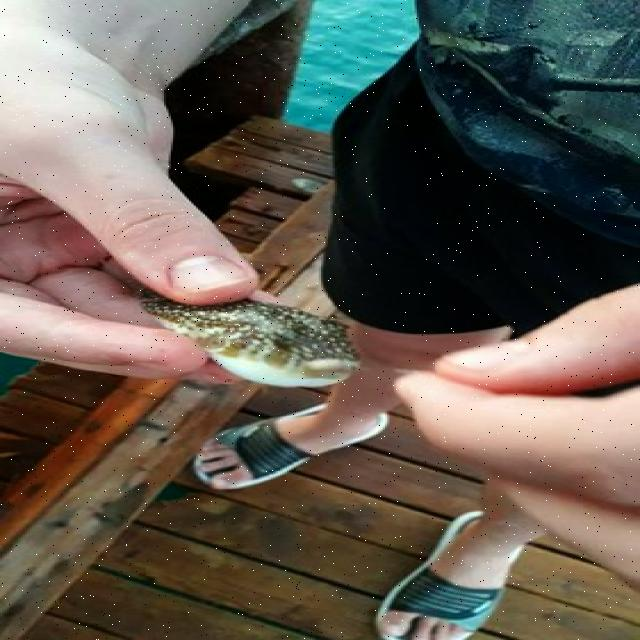Balik: (142, 292, 359, 386)
